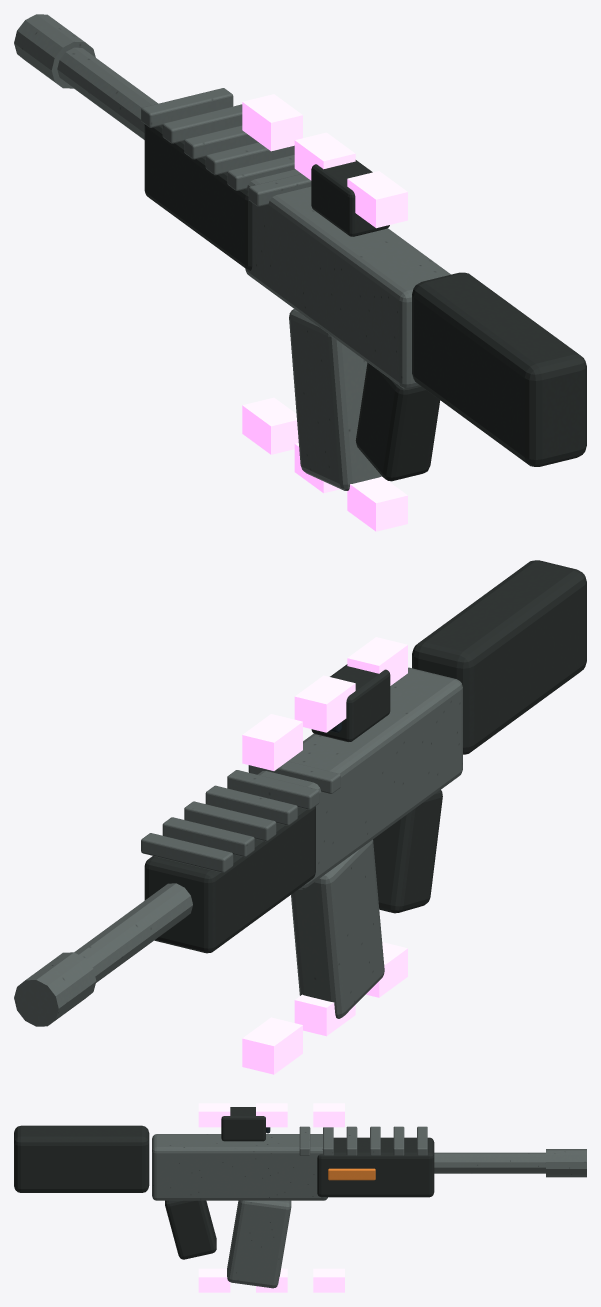
Rendered from rifle_3.glb.
3 views of the same model, one above another, from view 1: azimuth 30°, elevation 25°; view 2: azimuth 150°, elevation 25°; view 3: azimuth 270°, elevation 25° (orthographic). The views are drawn at different scales.
Visible parts, largest first — view 1: Weapon_rifle, GRADE_3_RAIL_2_1, GRADE_3_RAIL_0_-1, GRADE_3_RAIL_0_1, GRADE_3_RAIL_2_-1, GRADE_3_RAIL_1_1; view 2: Weapon_rifle, GRADE_3_RAIL_2_-1, GRADE_3_RAIL_2_1, GRADE_3_RAIL_1_1, GRADE_3_RAIL_0_1, GRADE_3_RAIL_1_-1, GRADE_3_RAIL_0_-1; view 3: Weapon_rifle, GRADE_3_RAIL_2_1, GRADE_3_RAIL_2_-1, GRADE_3_RAIL_0_-1, GRADE_3_RAIL_0_1, GRADE_3_RAIL_1_1, GRADE_3_RAIL_1_-1.
Boxes of the visible parts, x1,y1,x2,y2 form: Weapon_rifle: [14, 14, 586, 490]; GRADE_3_RAIL_2_1: [242, 94, 302, 151]; GRADE_3_RAIL_0_-1: [347, 476, 407, 531]; GRADE_3_RAIL_0_1: [347, 171, 407, 228]; GRADE_3_RAIL_2_-1: [242, 397, 298, 454]; GRADE_3_RAIL_1_1: [294, 132, 355, 180]; Weapon_rifle: [14, 560, 586, 1026]; GRADE_3_RAIL_2_-1: [242, 1017, 302, 1074]; GRADE_3_RAIL_2_1: [242, 714, 302, 770]; GRADE_3_RAIL_1_1: [294, 675, 355, 732]; GRADE_3_RAIL_0_1: [347, 637, 407, 685]; GRADE_3_RAIL_1_-1: [294, 994, 355, 1036]; GRADE_3_RAIL_0_-1: [366, 942, 407, 997]; Weapon_rifle: [14, 1107, 586, 1288]; GRADE_3_RAIL_2_1: [313, 1103, 344, 1127]; GRADE_3_RAIL_2_-1: [313, 1268, 344, 1292]; GRADE_3_RAIL_0_-1: [198, 1268, 230, 1292]; GRADE_3_RAIL_0_1: [198, 1103, 230, 1127]; GRADE_3_RAIL_1_1: [256, 1103, 287, 1127]; GRADE_3_RAIL_1_-1: [256, 1268, 287, 1292].
Size of the model in its own units: 0.09 by 0.3401 by 0.975.
5 materials, 4 textured.
